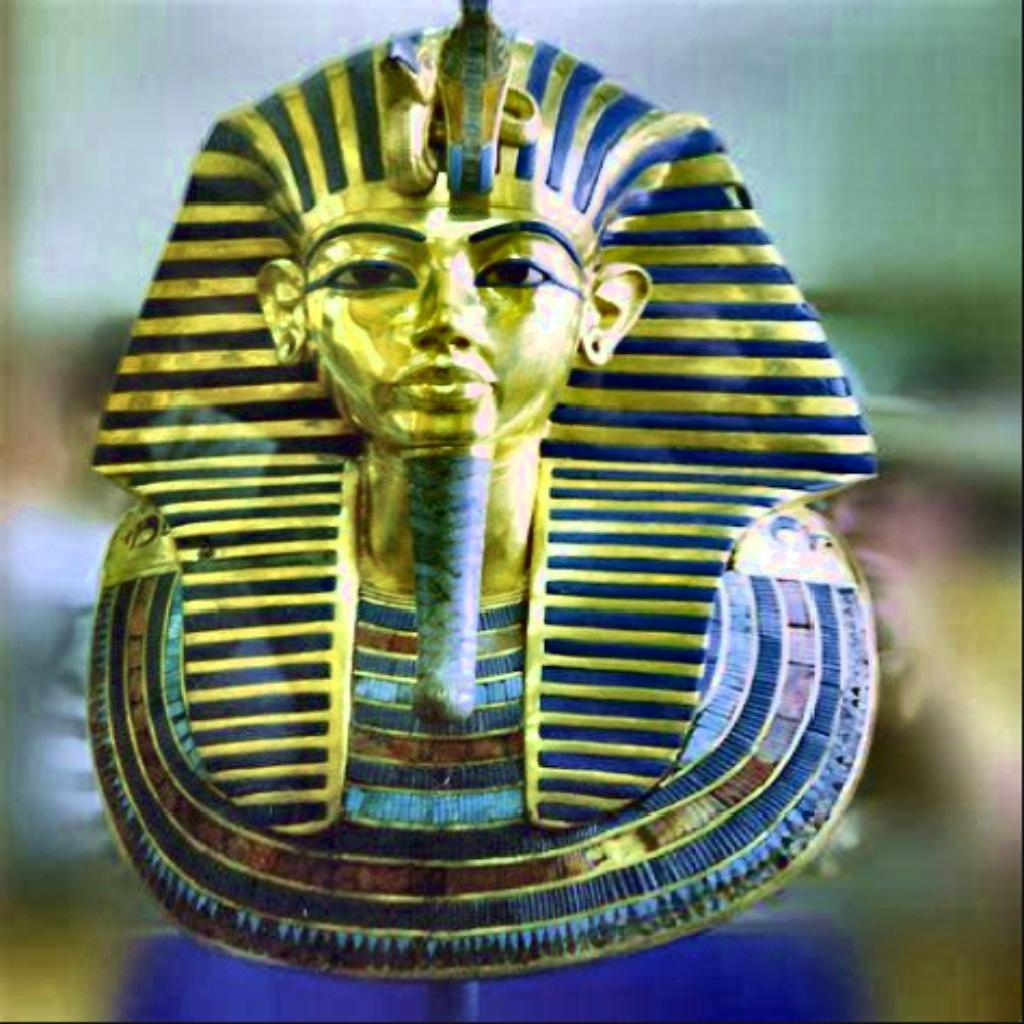Mask of Tutankhamun: (84, 0, 888, 985)
